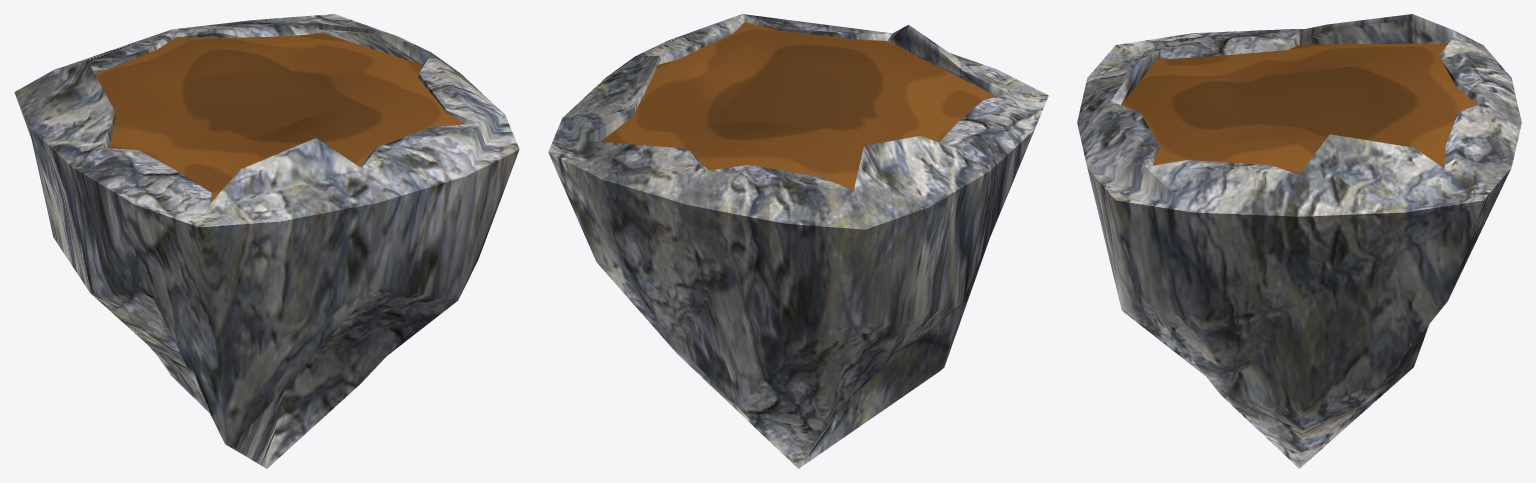
File: Obstacle_Mud.FBX
3 views of the same model, side by side, from view 1: azimuth 30°, elevation 25°; view 2: azimuth 150°, elevation 25°; view 3: azimuth 270°, elevation 25° (orthographic).
Visible parts, largest first — view 1: Platform_Middle; view 2: Platform_Middle; view 3: Platform_Middle.
Boxes of the visible parts, x1=… form: Platform_Middle: x1=14, y1=14, x2=519, y2=468; Platform_Middle: x1=548, y1=14, x2=1048, y2=468; Platform_Middle: x1=1077, y1=14, x2=1521, y2=468.
Size of the model in its own units: 105 by 103 by 105.
2 materials, 2 textured.
